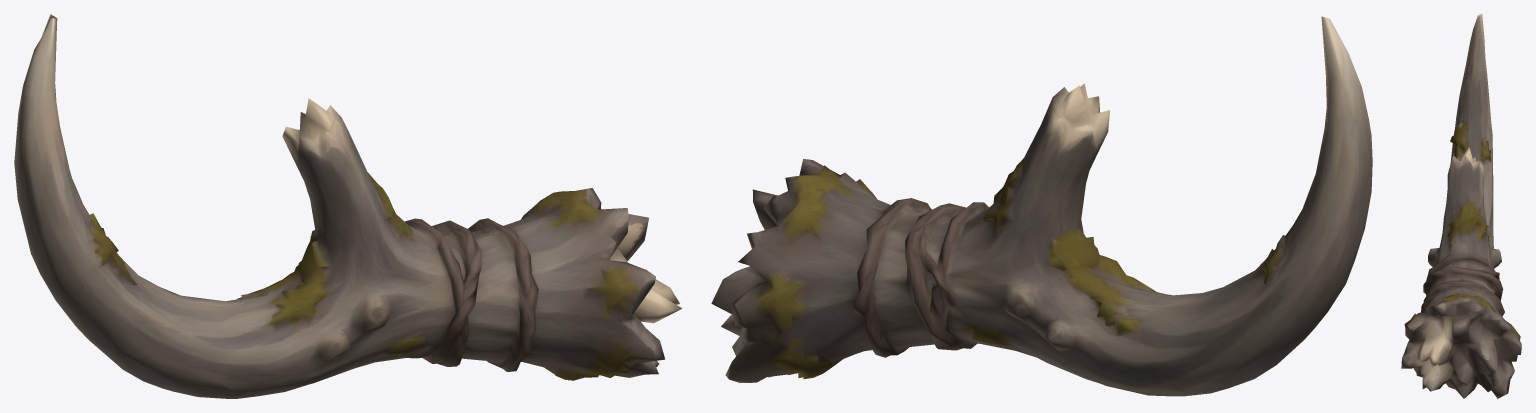
Rendered from fragmento-asta.glb.
3 views of the same model, side by side, from view 1: azimuth 30°, elevation 25°; view 2: azimuth 150°, elevation 25°; view 3: azimuth 270°, elevation 25° (orthographic). The views are drawn at different scales.
Parts seen in each view (by area): view 1: tripo_node_83e06259-90d1-4acc-9f88-40d9c67e329a; view 2: tripo_node_83e06259-90d1-4acc-9f88-40d9c67e329a; view 3: tripo_node_83e06259-90d1-4acc-9f88-40d9c67e329a.
Boxes of the visible parts, bbox=[...] form: tripo_node_83e06259-90d1-4acc-9f88-40d9c67e329a: bbox=[14, 14, 682, 398]; tripo_node_83e06259-90d1-4acc-9f88-40d9c67e329a: bbox=[711, 16, 1372, 396]; tripo_node_83e06259-90d1-4acc-9f88-40d9c67e329a: bbox=[1401, 14, 1521, 398].
Size of the model in its own units: 0.9828 by 0.7238 by 0.3172.
1 material, 1 textured.
